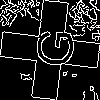G: (25, 25, 76, 70)
